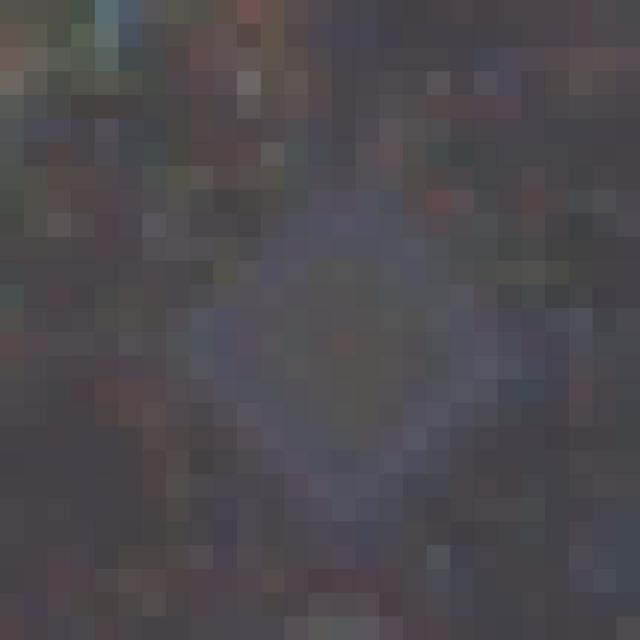Main Road: (143, 143, 523, 523)
